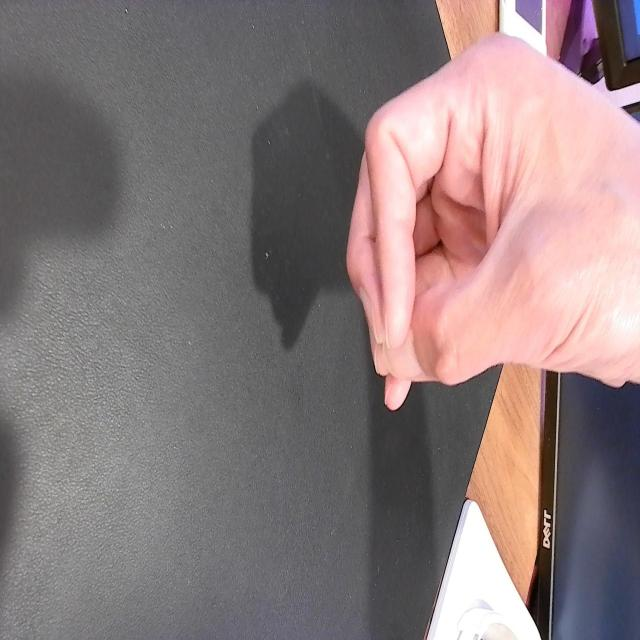O: (345, 29, 627, 432)
